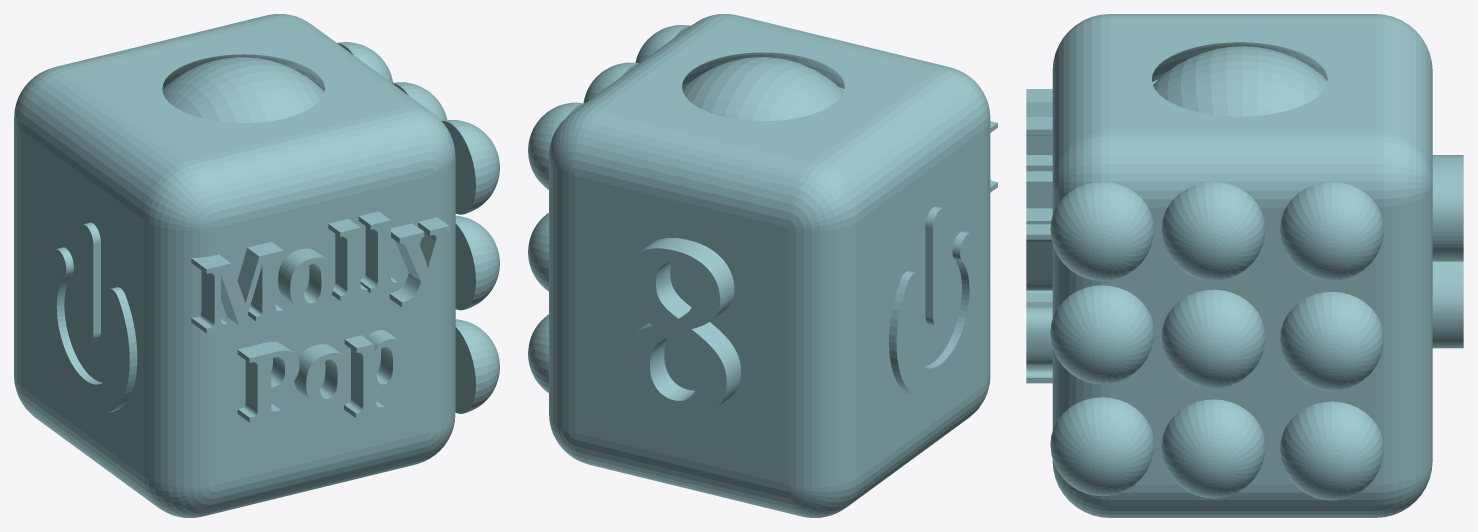
The model's file is MOLLY P - Dreamy trio.glb.
3 renders of one model, left to right at view 1: azimuth 30°, elevation 25°; view 2: azimuth 150°, elevation 25°; view 3: azimuth 270°, elevation 25°, orthographic. The views are drawn at different scales.
Parts seen in each view (by area): view 1: Mesh_Mesh_head_geo.001_lambert2SG.001; view 2: Mesh_Mesh_head_geo.001_lambert2SG.001; view 3: Mesh_Mesh_head_geo.001_lambert2SG.001.
Part boxes in pixels (bbox=[...]): Mesh_Mesh_head_geo.001_lambert2SG.001: bbox=[14, 14, 499, 517]; Mesh_Mesh_head_geo.001_lambert2SG.001: bbox=[528, 14, 997, 517]; Mesh_Mesh_head_geo.001_lambert2SG.001: bbox=[1026, 14, 1463, 517].
Size of the model in its own units: 0.0465 by 0.0492 by 0.046.
